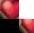eye: (0, 19, 19, 33)
heart: (0, 0, 19, 19), (19, 19, 34, 33)
